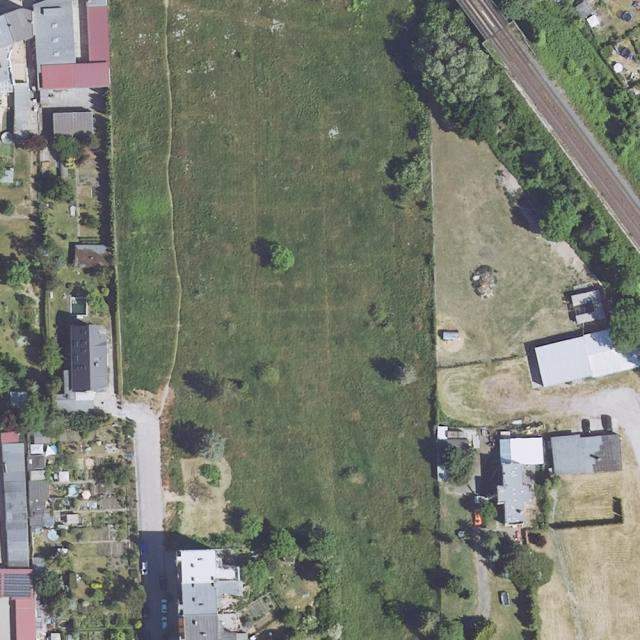PV: (4, 573, 31, 597)
